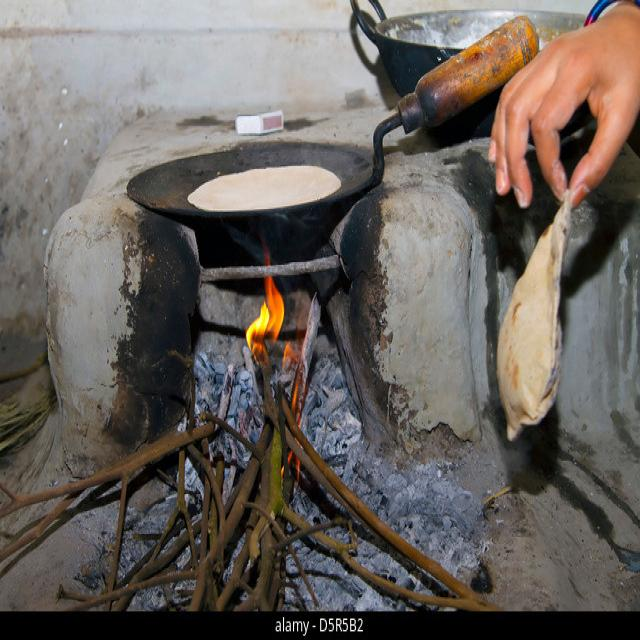fire: (282, 311, 314, 488), (246, 240, 284, 367)
